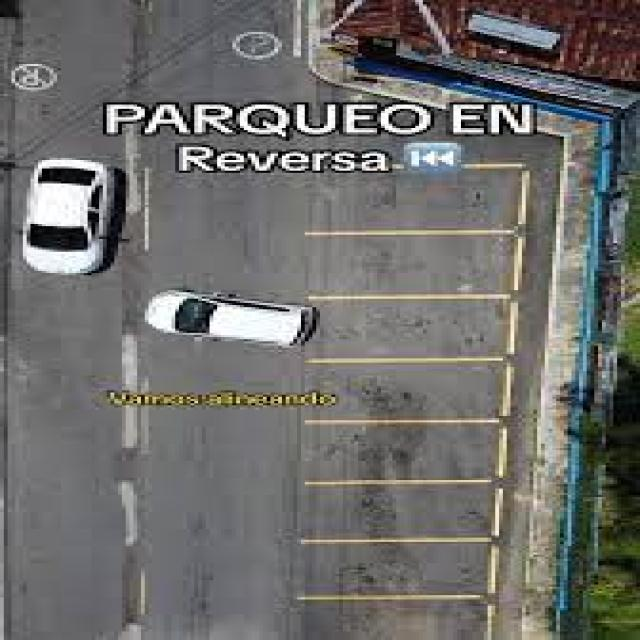libre: (272, 159, 548, 239), (284, 224, 538, 299), (298, 290, 533, 365), (279, 477, 519, 548), (254, 535, 519, 599), (300, 414, 526, 488), (300, 354, 533, 422), (267, 591, 508, 638)
